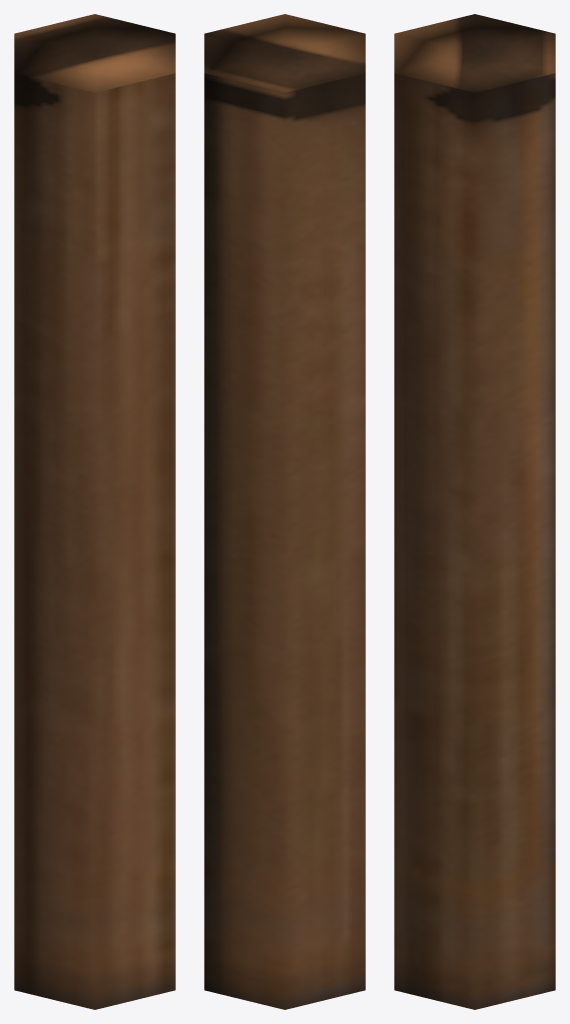
The model's file is Target stick.fbx.
The picture shows the model from 3 angles, left to right: view 1: azimuth 30°, elevation 25°; view 2: azimuth 150°, elevation 25°; view 3: azimuth 270°, elevation 25°; orthographic projection.
Parts seen in each view (by area): view 1: Target_stick; view 2: Target_stick; view 3: Target_stick.
Boxes of the visible parts, x1,y1,x2,y2 form: Target_stick: [14, 14, 175, 1009]; Target_stick: [204, 14, 365, 1009]; Target_stick: [394, 14, 555, 1009].
Bounding box in the file's own units: 7.51 × 40.72 × 6.5.
